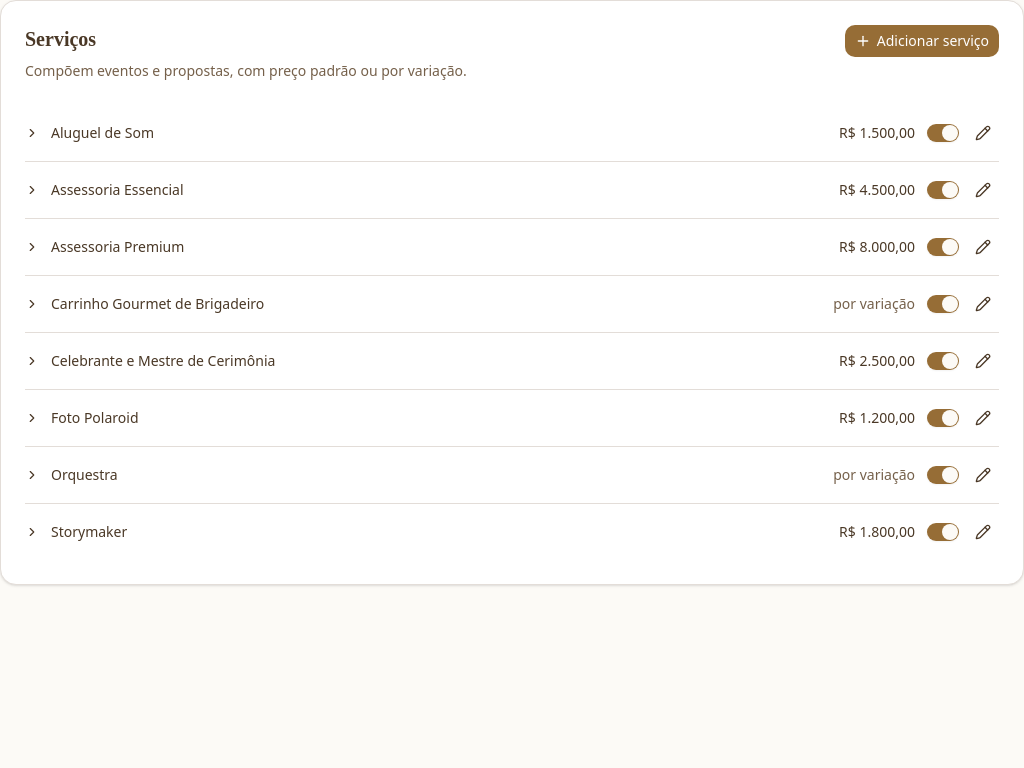
Scenario: ServicosTab › creating a service with an empty price shows '—' (persists null)
Expected: the text "Orquestra" is shown, [51,465,118,485]
Click the button "Adicionar serviço" at point(922, 41), box [845,25,999,57]
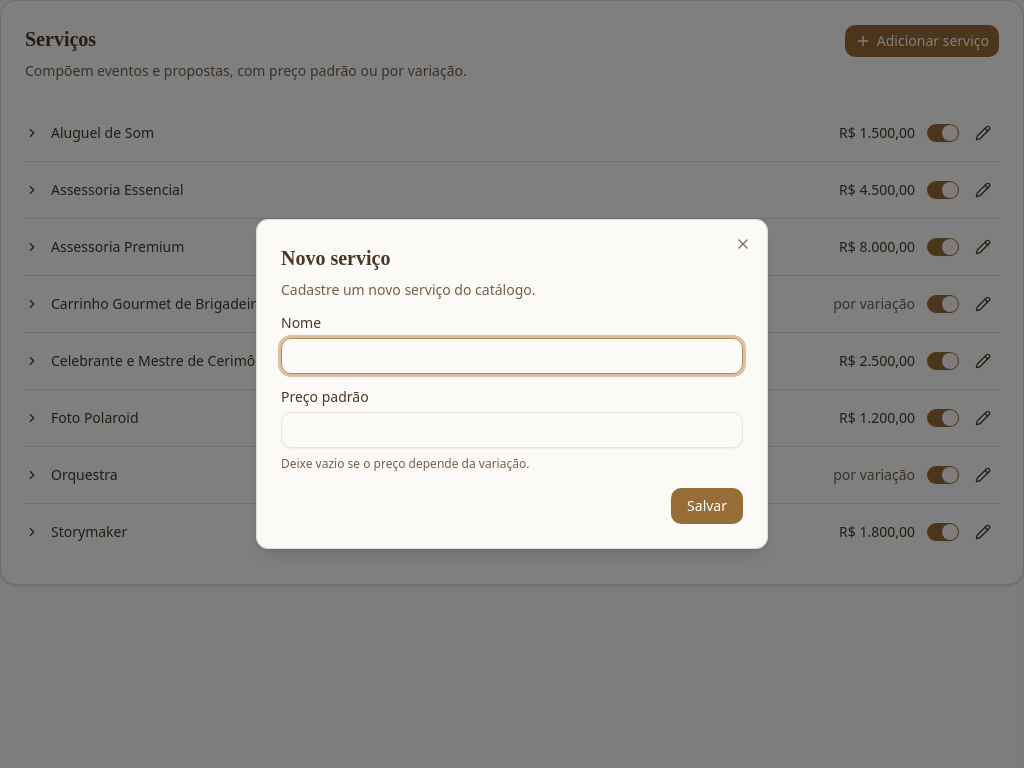
Type "Cabine de Fotos 360" into the field labelled "Nome" at point(512, 356), box [281,338,743,374]
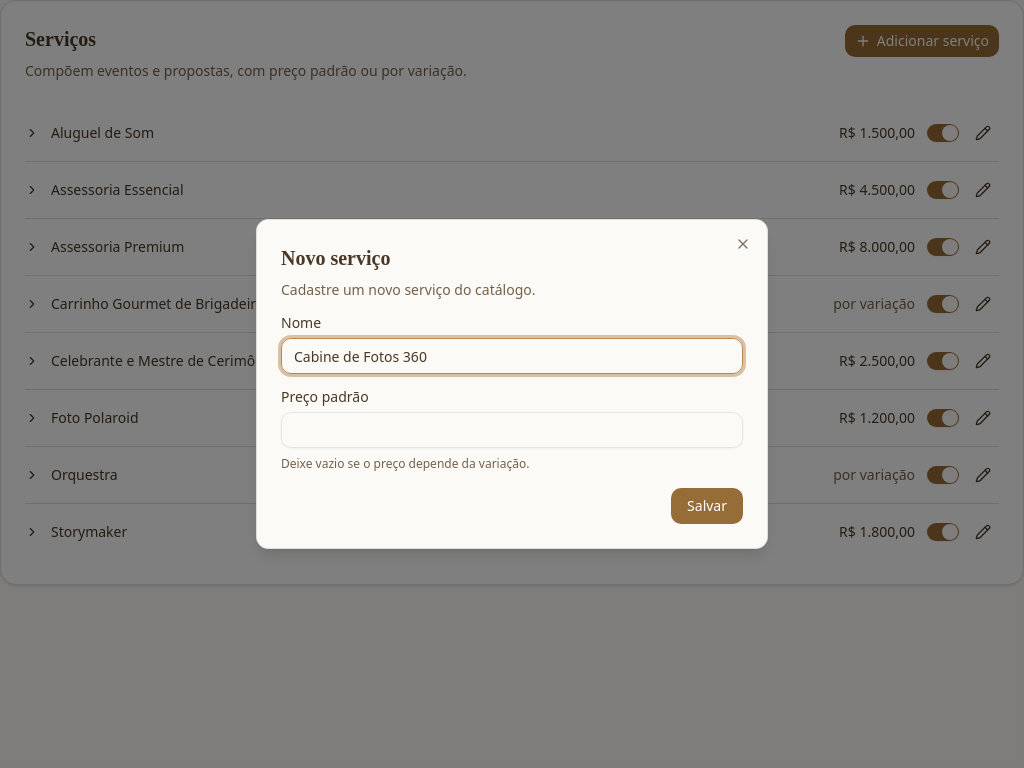
Click the button "Salvar" at point(707, 506), box [671,488,743,524]
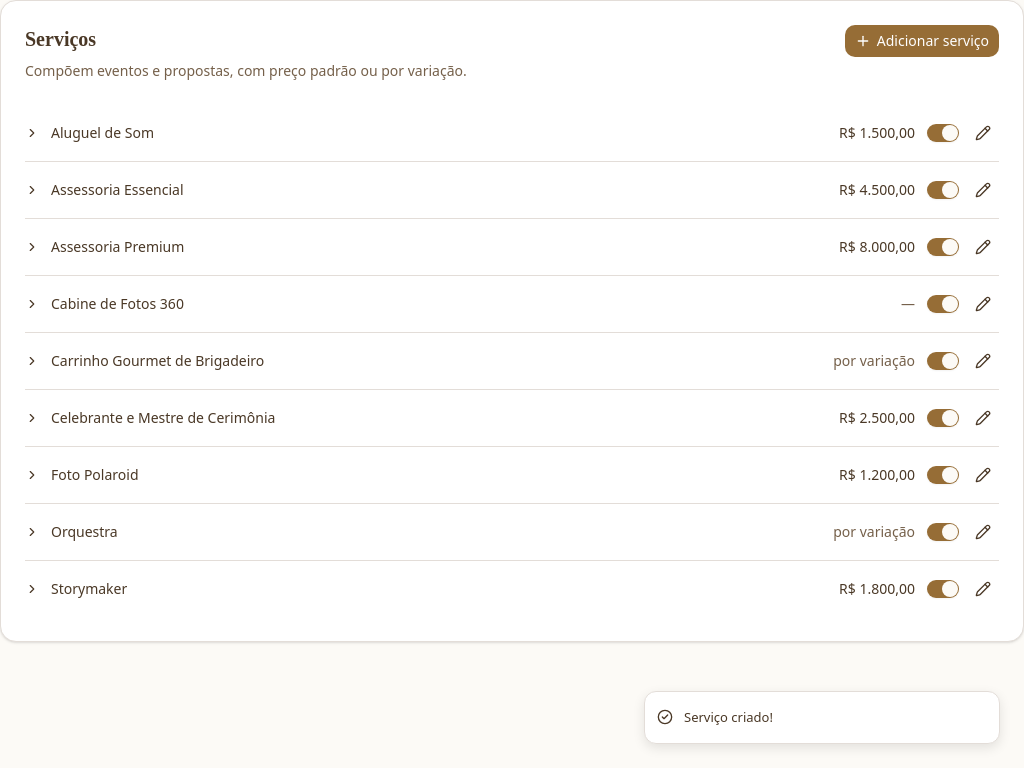
Expected: the text "—" is shown, [901,294,915,314]
